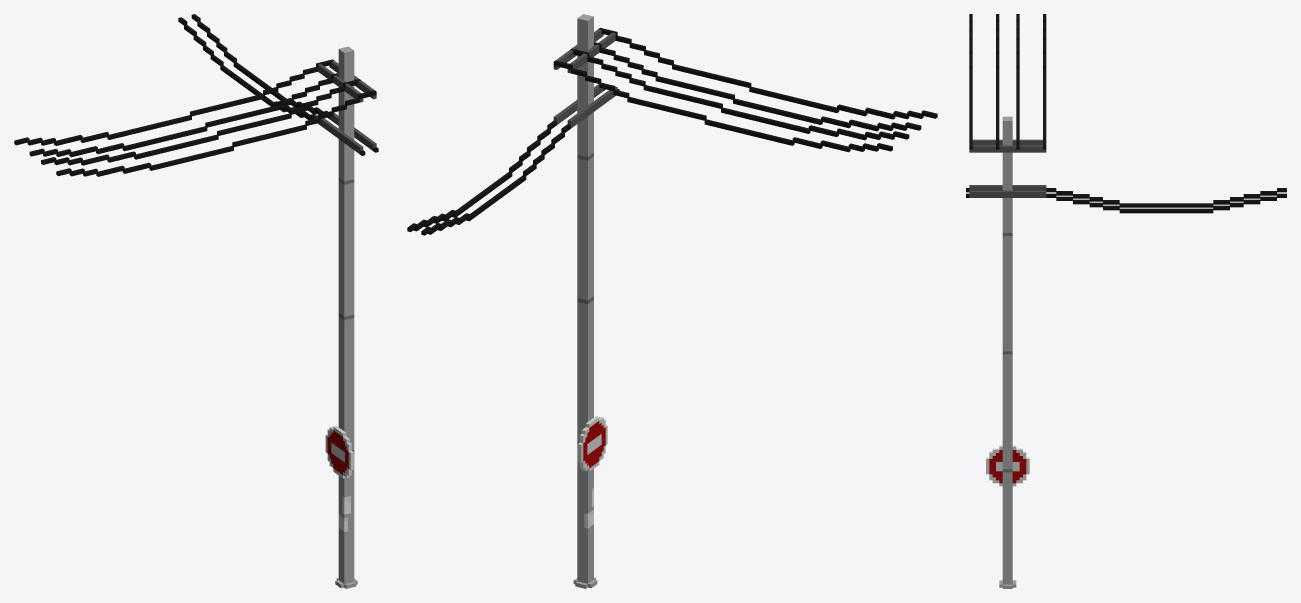
Rendered from poleEleven.glb.
3 renders of one model, left to right at view 1: azimuth 30°, elevation 25°; view 2: azimuth 150°, elevation 25°; view 3: azimuth 270°, elevation 25°, orthographic. The views are drawn at different scales.
Parts seen in each view (by area): view 1: ObjObject; view 2: ObjObject; view 3: ObjObject.
Part boxes in pixels (x1,y1,x2,y2): ObjObject: (14,14,378,588); ObjObject: (407,14,937,588); ObjObject: (966,14,1286,588).
Size of the model in its own units: 9.6 by 15.4 by 9.6.
Materials: 1 (1 with a texture image).
